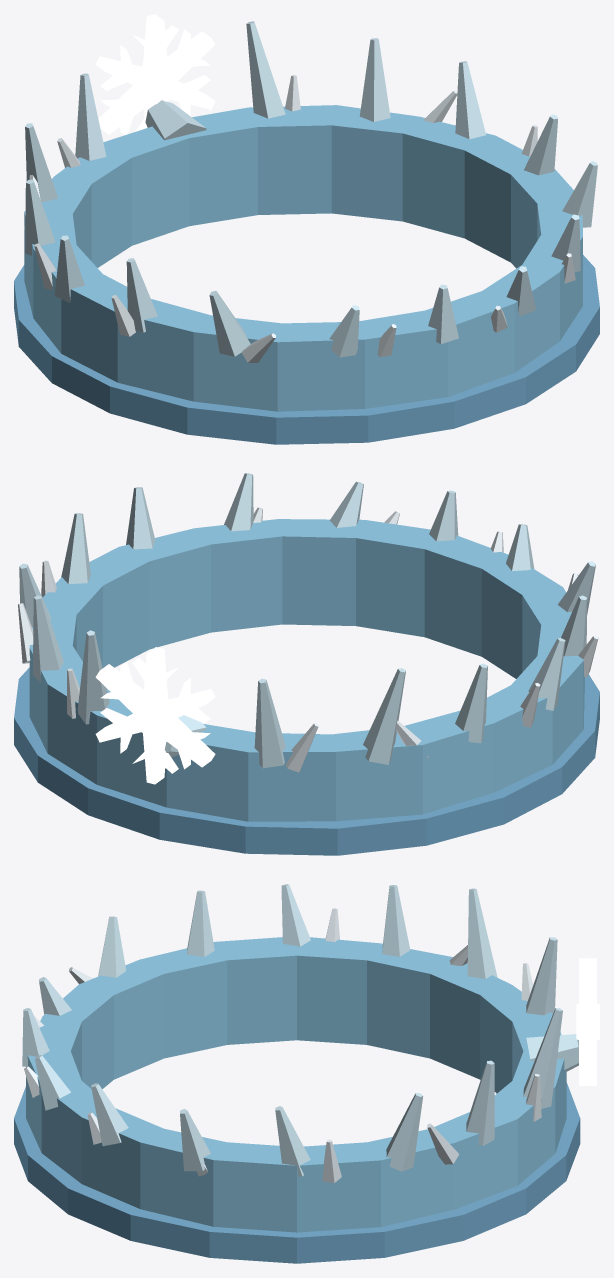
The model's file is FrostBand.fbx.
The picture shows the model from 3 angles, top to bottom: view 1: azimuth 30°, elevation 25°; view 2: azimuth 150°, elevation 25°; view 3: azimuth 270°, elevation 25°; orthographic projection. The views are drawn at different scales.
Parts seen in each view (by area): view 1: FrostBand.Band, FrostBand.Rim, FrostBand.Crystals, FrostBand.Snowflake, FrostBand.Frost; view 2: FrostBand.Band, FrostBand.Rim, FrostBand.Crystals, FrostBand.Snowflake, FrostBand.Frost; view 3: FrostBand.Band, FrostBand.Rim, FrostBand.Crystals, FrostBand.Frost, FrostBand.Snowflake.
Boxes of the visible parts, x1,y1,x2,y2 form: FrostBand.Band: (24, 105, 582, 411); FrostBand.Rim: (14, 255, 599, 444); FrostBand.Crystals: (25, 21, 597, 357); FrostBand.Snowflake: (95, 14, 215, 134); FrostBand.Frost: (24, 75, 575, 362); FrostBand.Band: (29, 519, 584, 821); FrostBand.Rim: (14, 667, 599, 855); FrostBand.Crystals: (19, 473, 595, 768); FrostBand.Snowflake: (95, 647, 215, 784); FrostBand.Frost: (18, 507, 598, 772); FrostBand.Band: (26, 937, 566, 1232); FrostBand.Rim: (14, 1082, 580, 1263); FrostBand.Crystals: (22, 884, 578, 1176); FrostBand.Frost: (24, 908, 541, 1182); FrostBand.Snowflake: (576, 958, 599, 1085).
Size of the model in its own units: 1.58 by 0.565 by 1.63.
